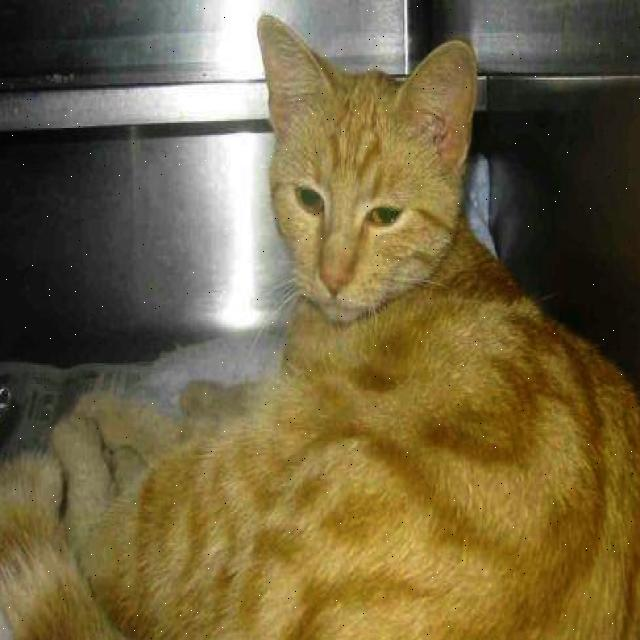Cat: (254, 8, 485, 339)
